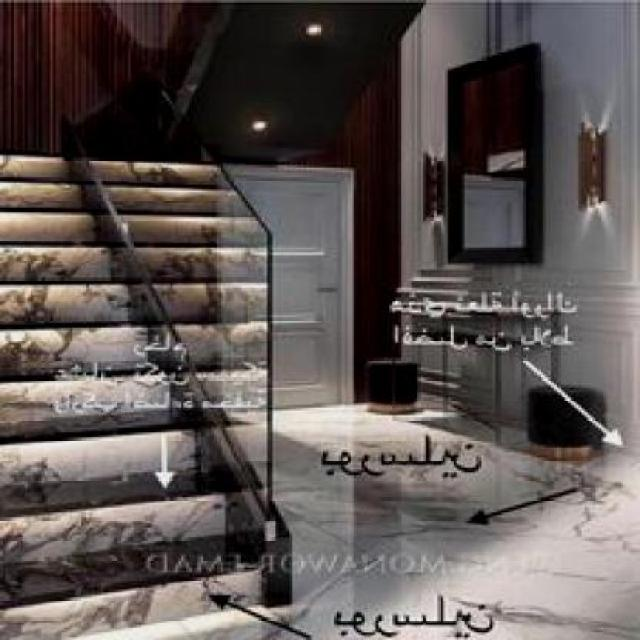stair: (1, 121, 316, 616)
